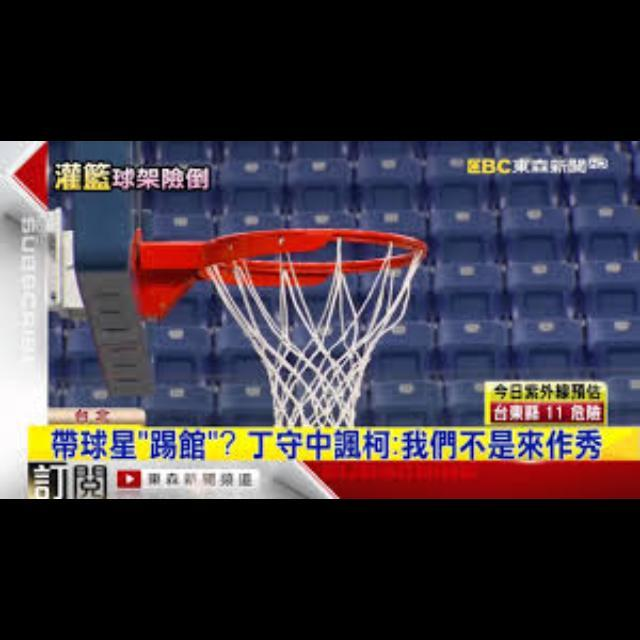rim: (205, 228, 427, 426)
